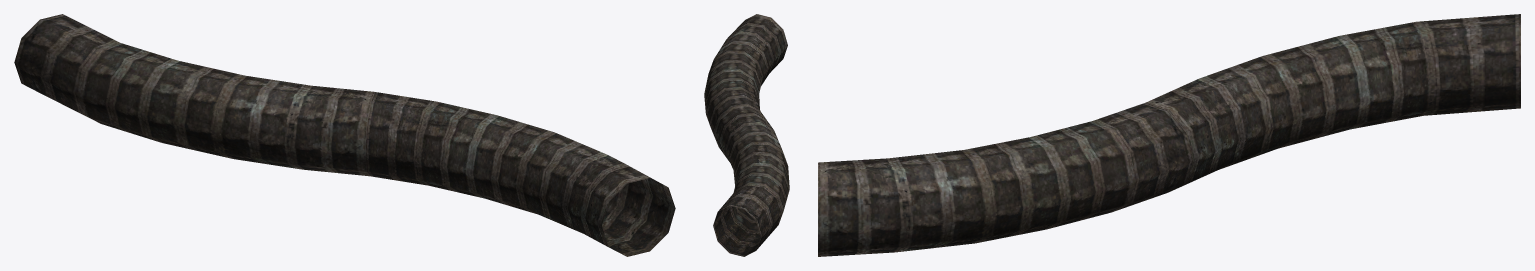
Rendered from leech_cable_s_short_left.dae.
3 renders of one model, left to right at view 1: azimuth 30°, elevation 25°; view 2: azimuth 150°, elevation 25°; view 3: azimuth 270°, elevation 25°, orthographic. The views are drawn at different scales.
Visible parts, largest first — view 1: tentacle_leech_cable_s_short_left; view 2: tentacle_leech_cable_s_short_left; view 3: tentacle_leech_cable_s_short_left.
Boxes of the visible parts, left/top/right/bottom form: tentacle_leech_cable_s_short_left: left=14, top=14, right=675, bottom=256; tentacle_leech_cable_s_short_left: left=704, top=14, right=789, bottom=256; tentacle_leech_cable_s_short_left: left=818, top=14, right=1520, bottom=256.
Size of the model in its own units: 0.9531 by 0.1932 by 1.5.
